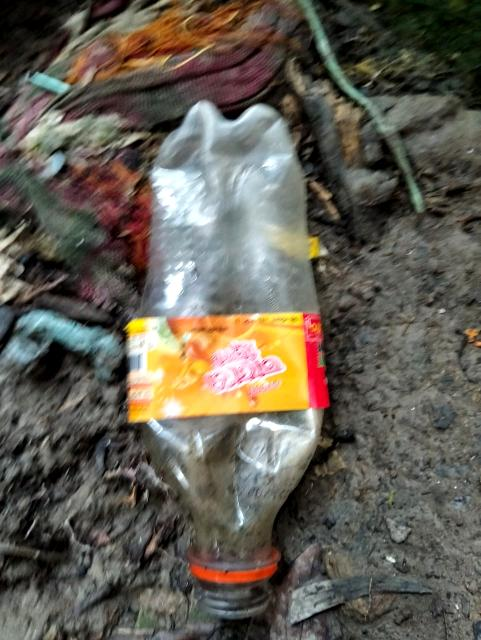bottle: (133, 116, 339, 593)
